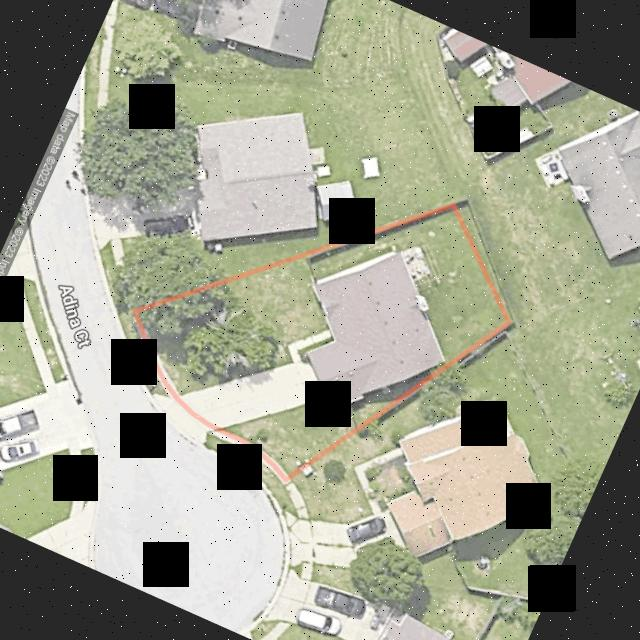Driveway: (182, 331, 331, 427), (182, 360, 323, 427)
Extra Driveway: (153, 395, 207, 442)
Extra Lawn: (204, 434, 283, 494), (118, 311, 166, 396)
House: (307, 248, 442, 408)
